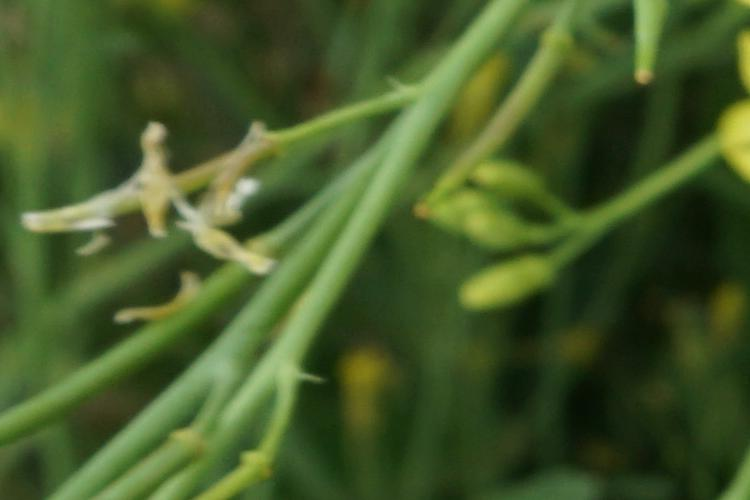bud: (459, 260, 564, 313), (478, 149, 559, 196), (465, 213, 544, 254)
